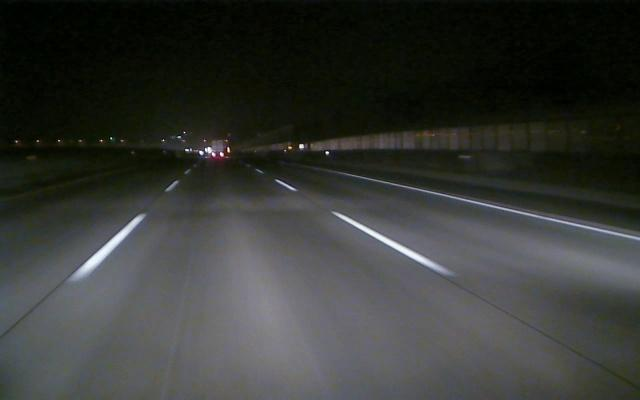lane: (330, 171, 637, 241), (275, 179, 457, 279), (64, 181, 178, 284)
